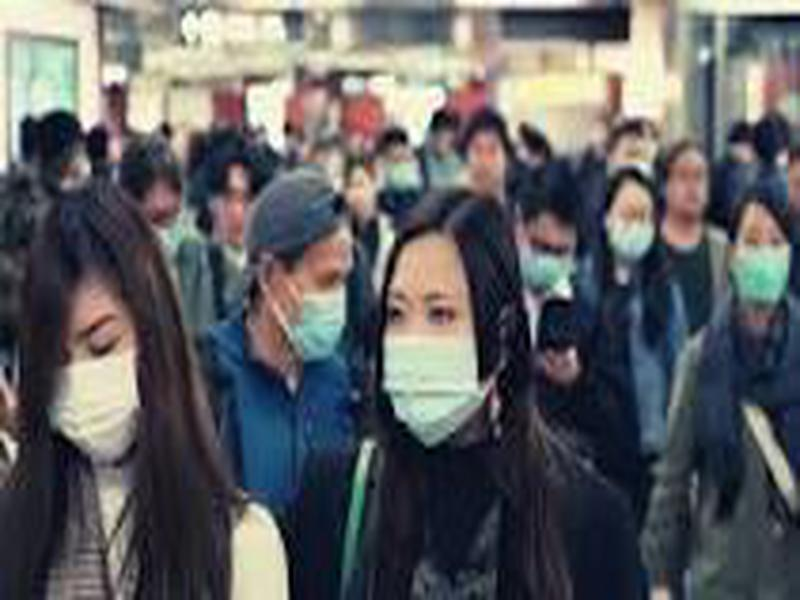with_mask: (24, 183, 190, 471), (379, 186, 524, 451), (244, 168, 356, 363), (508, 165, 584, 297), (727, 188, 795, 316), (601, 166, 661, 268)
without_mask: (662, 140, 710, 226)
